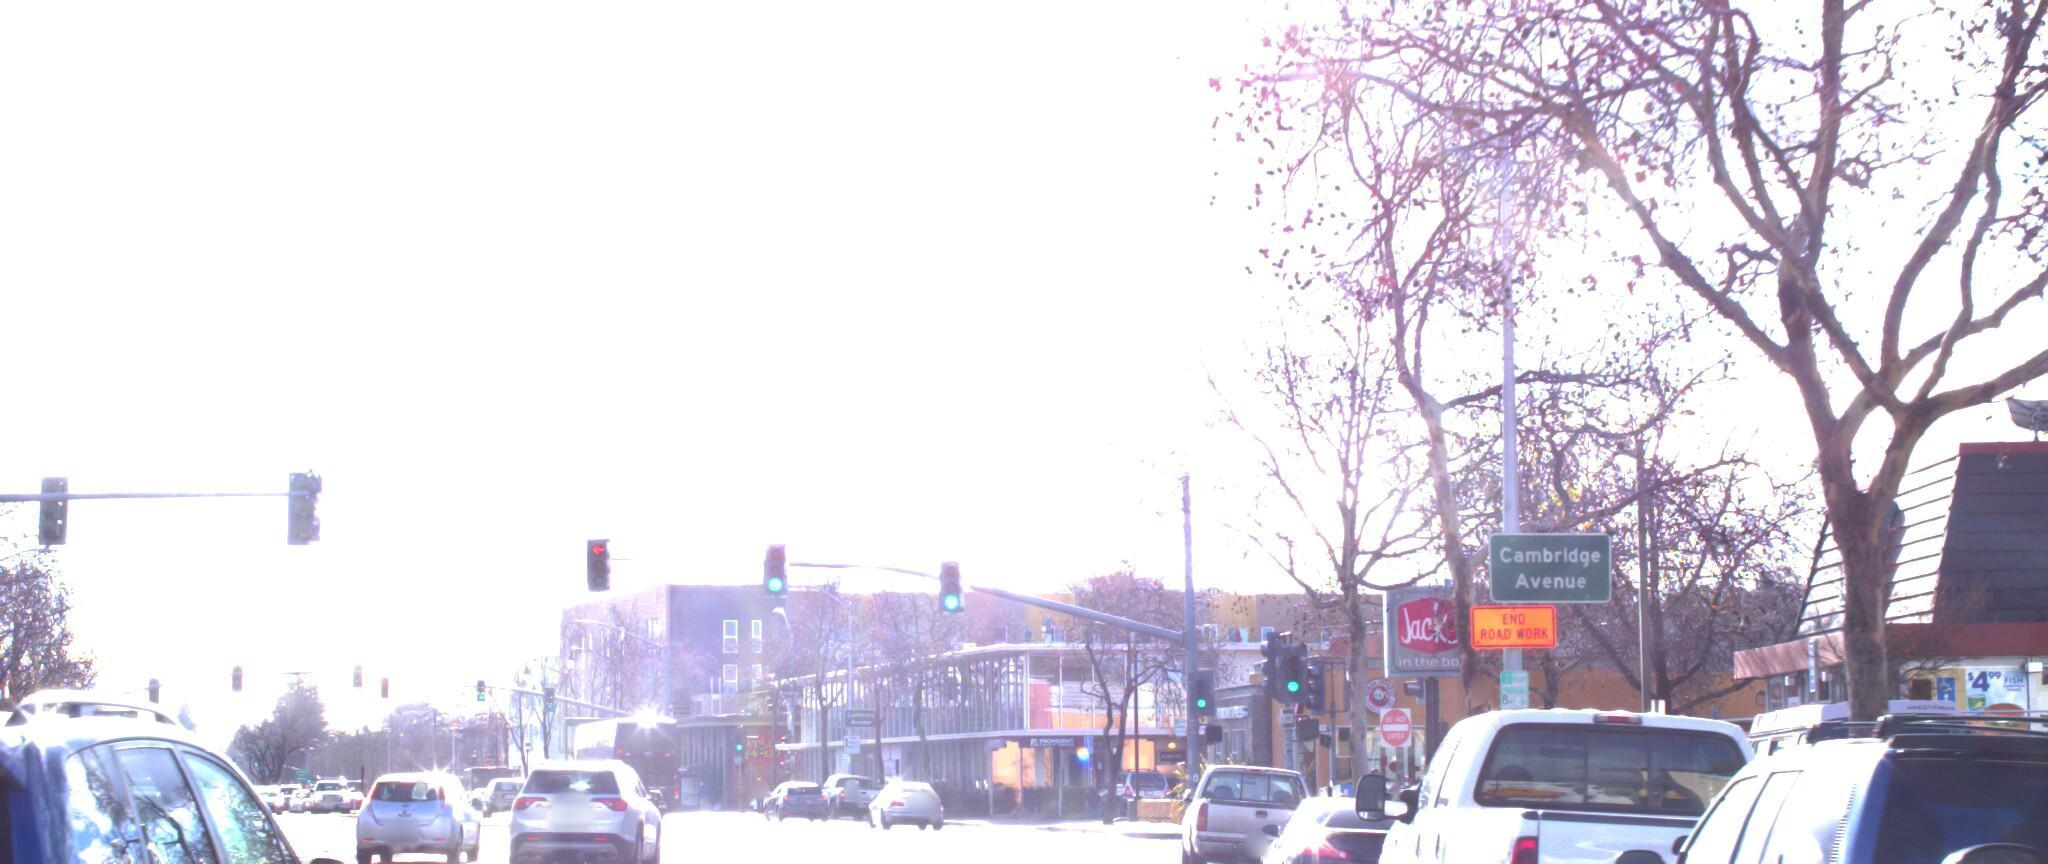car: (1354, 677, 1907, 864), (1784, 522, 2048, 864), (1576, 696, 2048, 864), (0, 689, 438, 864), (1702, 681, 2008, 864), (499, 732, 654, 857), (1166, 741, 1324, 864), (1256, 779, 1452, 864), (344, 756, 490, 852)
